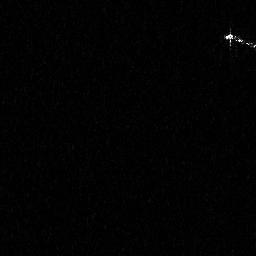ship: (223, 27, 256, 51)
